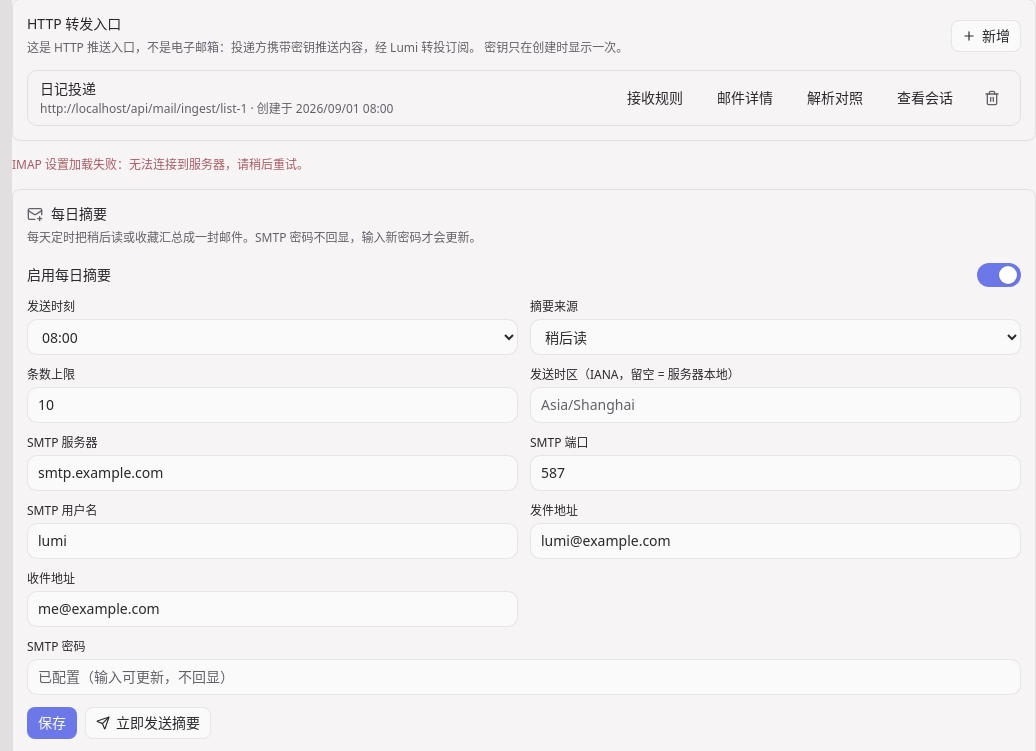
Test: MailSection › 立即发送摘要（空选择）：BFF 错误 message 原样透出
The width and height of the screenshot is (1036, 751).
Click the button "立即发送摘要" at coordinates (148, 723), box [85,707,211,739]
(page scrolled)
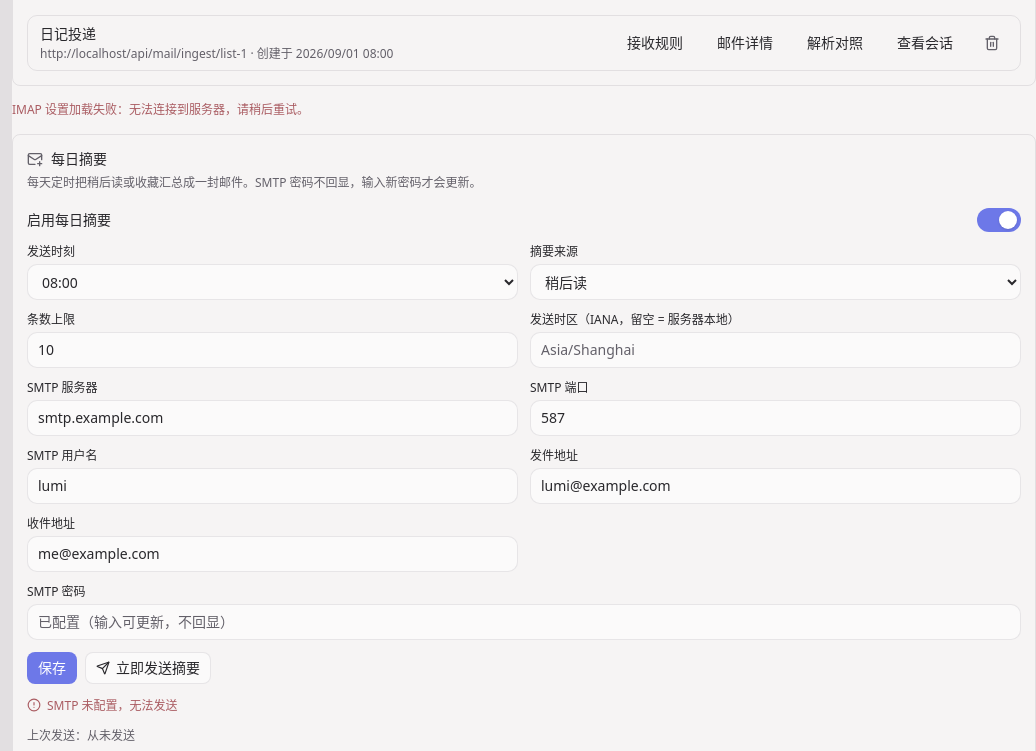
expect the text "SMTP 未配置，无法发送" is shown: met, box [27,697,178,714]
